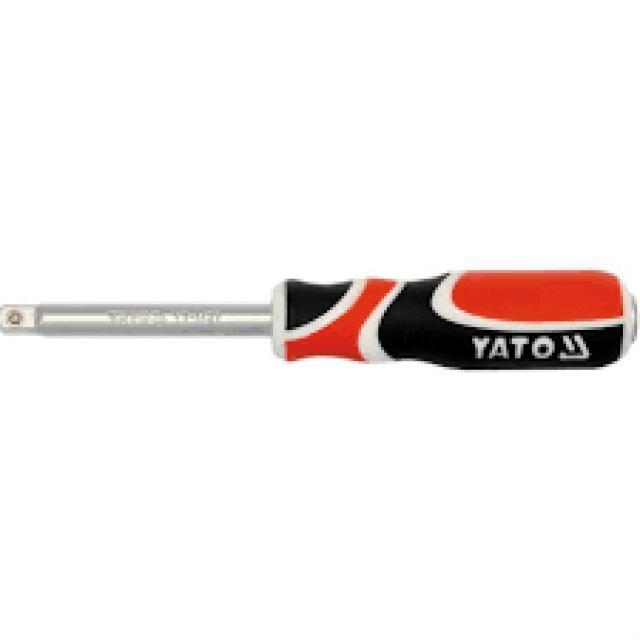screwdriver: (170, 94, 244, 544), (101, 97, 175, 534), (267, 104, 333, 556), (332, 112, 396, 550), (432, 152, 492, 514), (490, 152, 548, 508)
